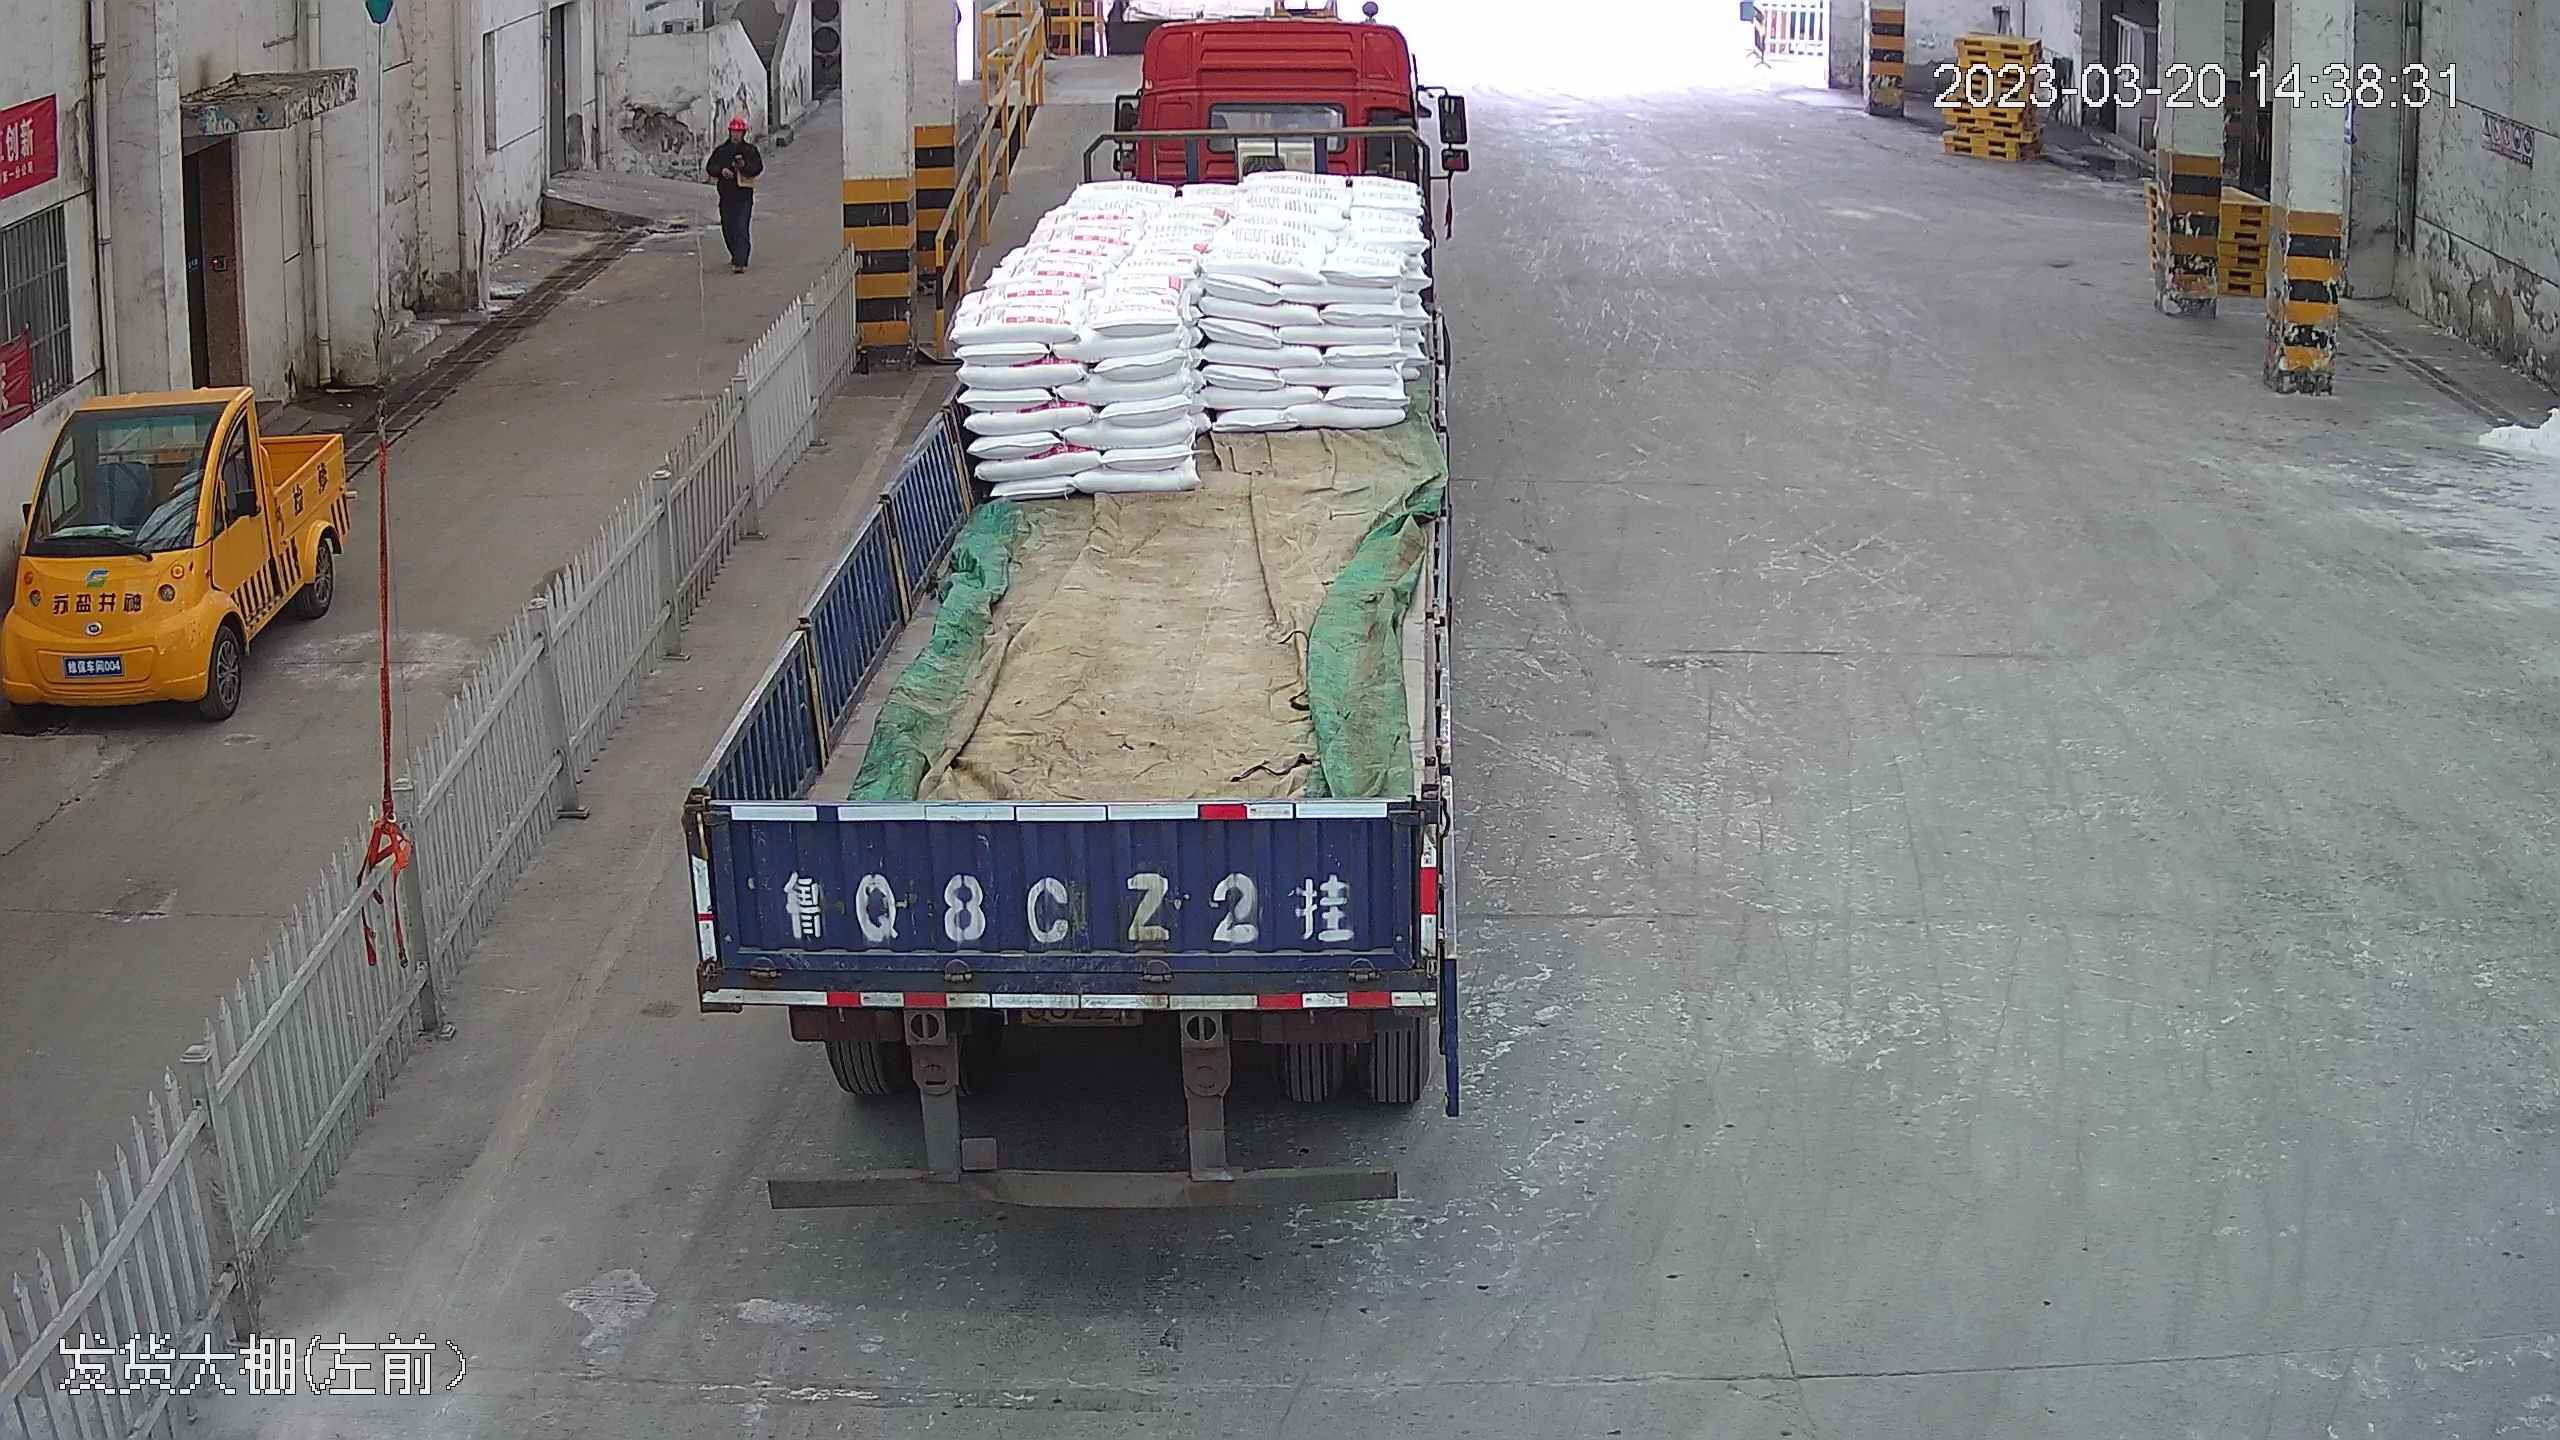head: (711, 106, 762, 162)
helmet: (725, 108, 750, 130)
people: (701, 102, 769, 275)
truck: (697, 0, 1480, 1189)
